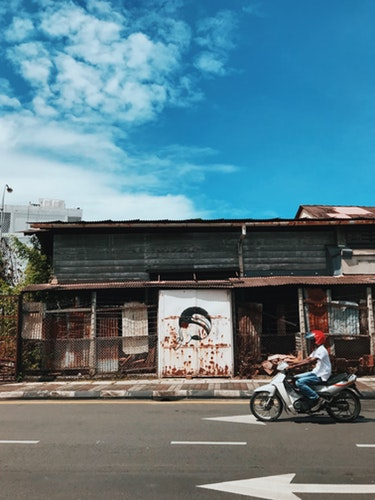helmet: (307, 326, 327, 347)
